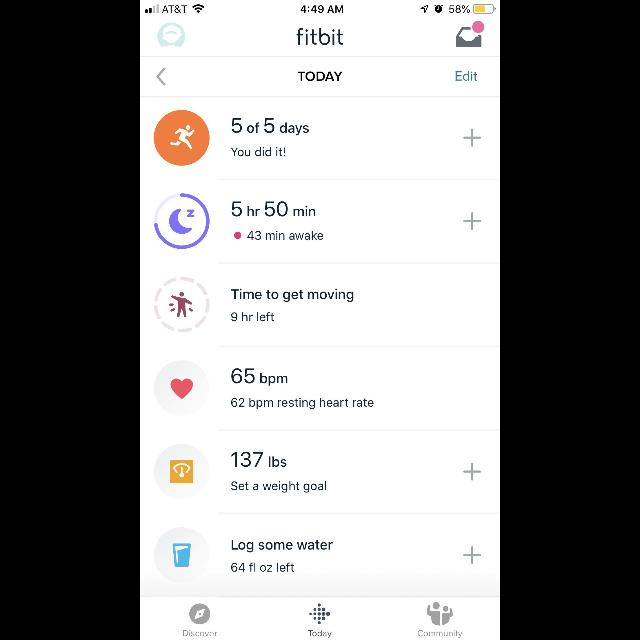icon: (154, 360, 210, 416), (190, 604, 210, 624), (463, 546, 481, 564), (463, 463, 481, 481), (463, 212, 481, 230), (463, 129, 481, 147), (157, 66, 165, 84)
image: (154, 444, 210, 500), (154, 109, 210, 165), (154, 276, 210, 332), (154, 528, 210, 582), (154, 192, 208, 248), (158, 23, 186, 49), (456, 21, 484, 47), (427, 602, 453, 626), (310, 604, 330, 624)
text: (230, 288, 354, 302), (232, 397, 374, 409), (232, 117, 308, 137), (231, 201, 315, 217), (232, 540, 332, 552), (232, 481, 326, 493), (232, 368, 288, 386), (296, 28, 344, 46), (232, 451, 286, 467), (247, 230, 323, 240), (232, 146, 286, 158), (232, 562, 294, 572), (298, 70, 342, 82), (230, 311, 274, 321), (418, 630, 462, 638), (184, 630, 218, 636), (308, 630, 332, 638), (456, 72, 478, 80)
uppertaskbar: (140, 0, 500, 14)
